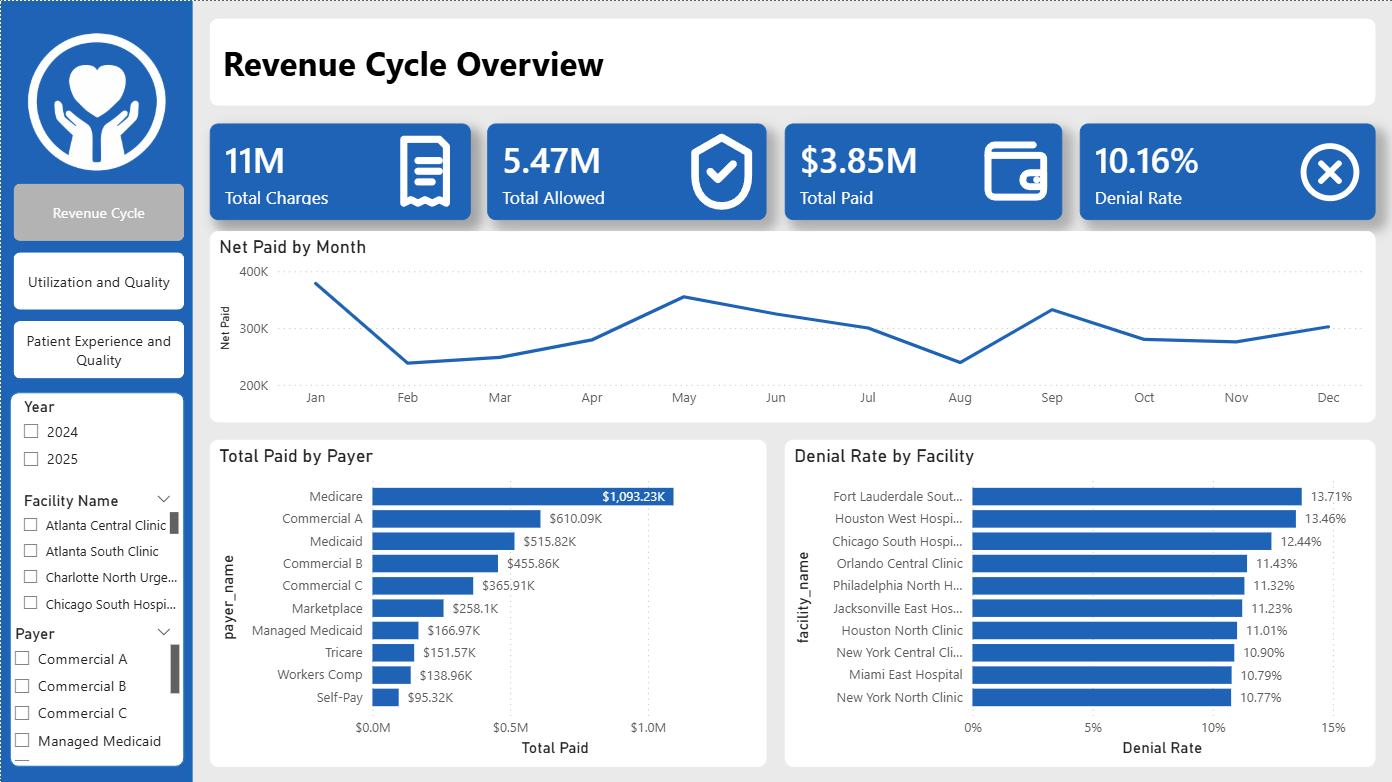

The dashboard page shown, as its layout file describes it:
{"tool":"powerbi","page":{"name":"Revenue Cycle","canvas":[1280,720],"ordinal":0},"visuals":[{"type":"shape","box":[0,0,176,720],"z":0},{"type":"image","box":[16,0,144,192],"z":1000},{"type":"shape","box":[192,16,1072,80],"z":2000},{"type":"cardVisual","fields":{"Data":["curated_claim_line.Total Charges"]},"box":[192.1,112.5,240.1,89.2],"z":3000},{"type":"cardVisual","fields":{"Data":["curated_claim_line.Total Allowed"]},"box":[447.3,112.5,256.6,89.2],"z":4000},{"type":"cardVisual","fields":{"Data":["curated_claim_line.Total Paid"]},"box":[720.4,112.5,255.2,89.2],"z":5000},{"type":"cardVisual","fields":{"Data":["curated_claim_line.Denial Rate"]},"box":[992.1,112.5,271.7,89.2],"z":6000},{"type":"lineChart","title":"Net Paid by Month","fields":{"Category":["dim_date.month_name"],"Y":["curated_claim_line.Net Paid"]},"box":[192.1,211.3,1071.7,175.6],"z":7000},{"type":"clusteredBarChart","title":"Total Paid by Payer","fields":{"Category":["dim_payer.payer_name"],"Y":["curated_claim_line.Total Paid"]},"box":[192.1,403.4,511.8,300.5],"z":8000},{"type":"clusteredBarChart","title":"Denial Rate by Facility","fields":{"Category":["dim_facility.facility_name"],"Y":["curated_claim_line.Denial Rate"]},"box":[720.4,403.4,543.4,300.5],"z":9000},{"type":"shape","box":[8.2,359.5,160.5,344.4],"z":10000},{"type":"slicer","fields":{"Values":["dim_facility.facility_name"]},"box":[8.2,446,160.5,122.1],"z":11000},{"type":"slicer","fields":{"Values":["dim_date.year"]},"box":[8.2,359.5,160.5,86.4],"z":12000},{"type":"slicer","fields":{"Values":["dim_payer.payer_name"]},"box":[0,568.1,168.8,135.8],"z":13000},{"type":"image","box":[354,115.3,78.2,83.7],"z":14000},{"type":"image","box":[620.2,115.3,83.7,83.7],"z":15000},{"type":"image","box":[890.6,119.4,85.1,76.8],"z":16000},{"type":"image","box":[1189.7,104.3,64.5,105.7],"z":17000},{"type":"pageNavigator","box":[11,167.4,157.8,179.8],"z":18000}]}

Visuals, with their boxes in screenshot pixels (x1, y1, x2, y2), scaled from the page's 1280x720 canvas onto the 1392x782 screenshot:
shape: [0, 0, 191, 781]
image: [17, 0, 174, 209]
shape: [209, 17, 1375, 104]
cardVisual - curated_claim_line.Total Charges: [209, 122, 470, 219]
cardVisual - curated_claim_line.Total Allowed: [486, 122, 765, 219]
cardVisual - curated_claim_line.Total Paid: [783, 122, 1061, 219]
cardVisual - curated_claim_line.Denial Rate: [1079, 122, 1374, 219]
"Net Paid by Month" lineChart: [209, 229, 1374, 420]
"Total Paid by Payer" clusteredBarChart: [209, 438, 765, 765]
"Denial Rate by Facility" clusteredBarChart: [783, 438, 1374, 765]
shape: [9, 390, 183, 765]
slicer - dim_facility.facility_name: [9, 484, 183, 617]
slicer - dim_date.year: [9, 390, 183, 484]
slicer - dim_payer.payer_name: [0, 617, 184, 765]
image: [385, 125, 470, 216]
image: [674, 125, 765, 216]
image: [969, 130, 1061, 213]
image: [1294, 113, 1364, 228]
pageNavigator: [12, 182, 184, 377]
